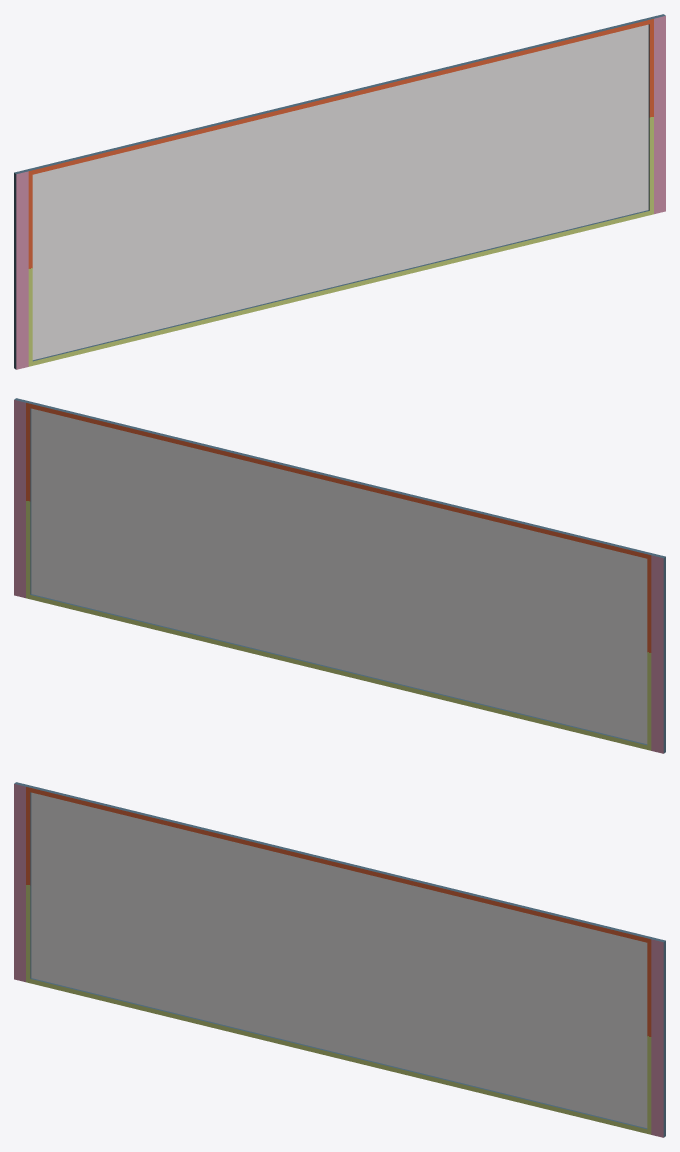
File: bigwindow.fbx
3 renders of one model, top to bottom at view 1: azimuth 30°, elevation 25°; view 2: azimuth 150°, elevation 25°; view 3: azimuth 330°, elevation 25°, orthographic.
Parts seen in each view (by area): view 1: Cube; view 2: Cube; view 3: Cube.
Boxes of the visible parts, x1,y1,x2,y2 form: Cube: [14, 14, 665, 369]; Cube: [14, 398, 665, 753]; Cube: [14, 782, 665, 1137].
Size of the model in its own units: 2002 by 576 by 12.51.
